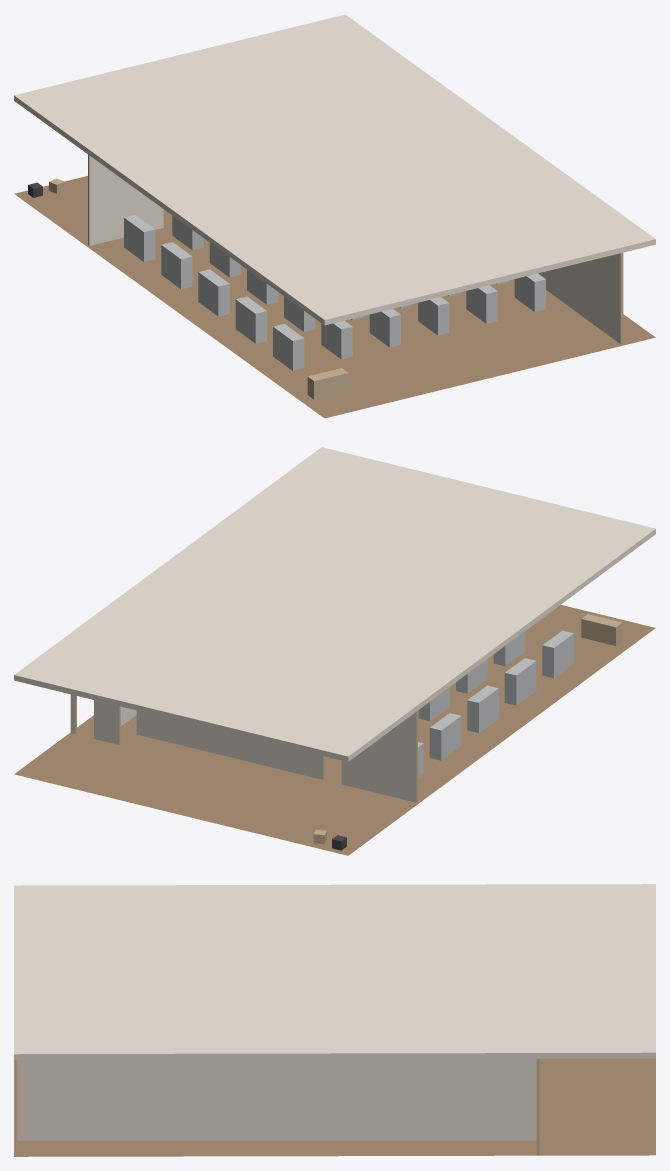
Rendered from interior.glb.
3 views of the same model, one above another, from view 1: azimuth 30°, elevation 25°; view 2: azimuth 150°, elevation 25°; view 3: azimuth 270°, elevation 25° (orthographic). The views are drawn at different scales.
Visible parts, largest first — view 1: slabs, coarse-s0, partitions; view 2: slabs, partitions, coarse-s0; view 3: slabs, partitions.
Boxes of the visible parts, x1,y1,x2,y2 form: slabs: [14, 14, 655, 418]; coarse-s0: [28, 178, 545, 399]; partitions: [88, 154, 623, 344]; slabs: [14, 447, 655, 855]; partitions: [70, 694, 417, 802]; coarse-s0: [313, 614, 622, 850]; slabs: [14, 884, 655, 1156]; partitions: [17, 1058, 539, 1155].
Bounding box in the file's own units: 16.58 × 4.69 × 26.46.
